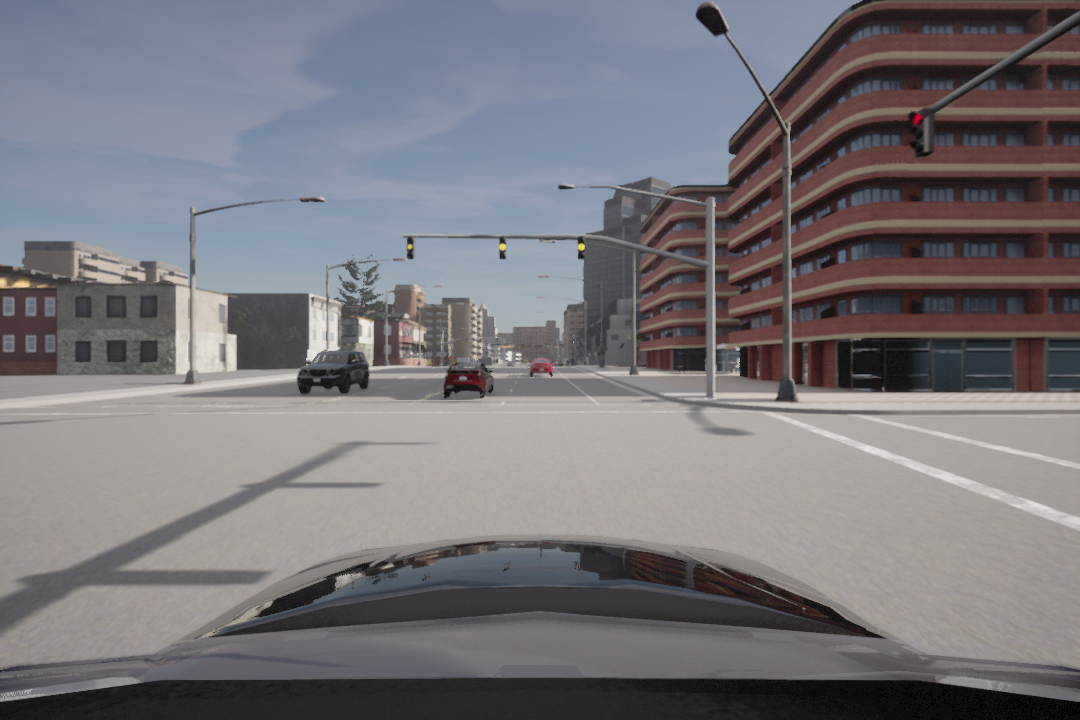TrafficLight: (910, 106, 937, 154), (574, 234, 590, 261), (403, 234, 415, 261), (497, 234, 507, 260)
